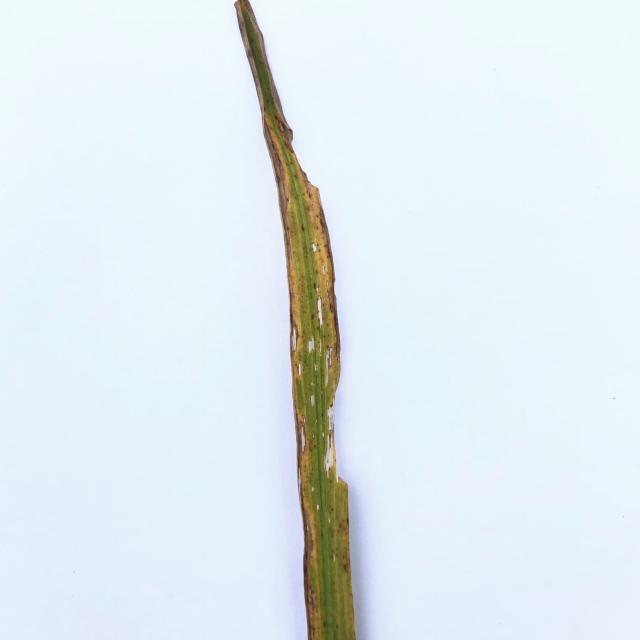tungro: (261, 120, 351, 393), (293, 412, 354, 640)
